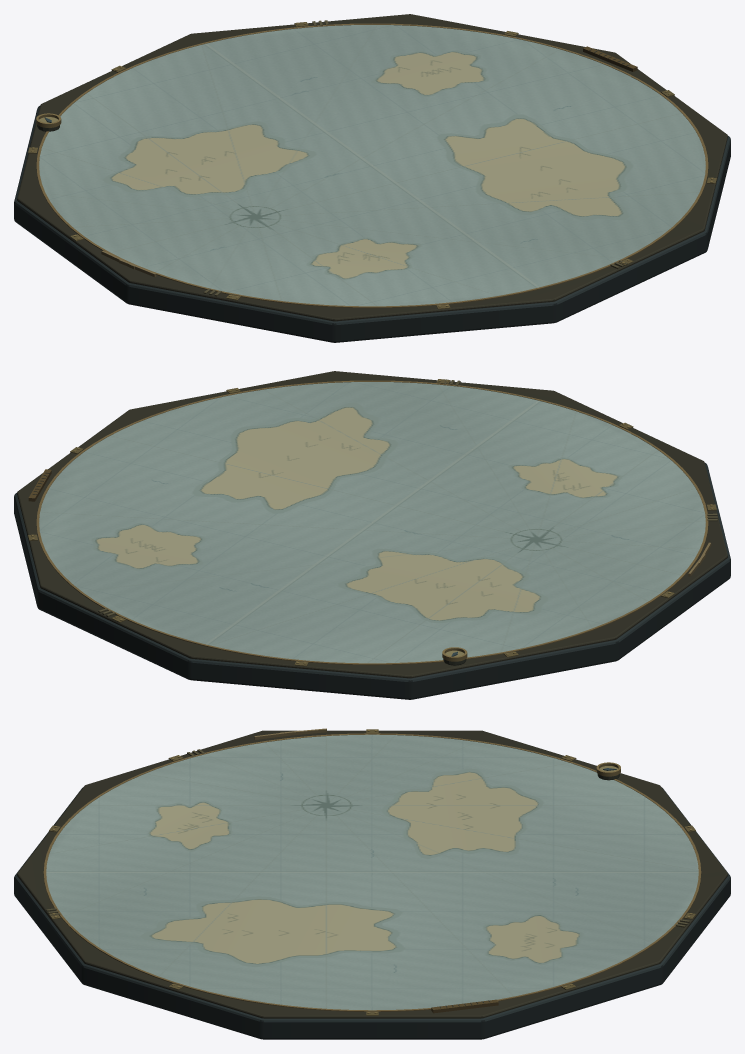
File: navigation-table.glb
3 renders of one model, top to bottom at view 1: azimuth 30°, elevation 25°; view 2: azimuth 150°, elevation 25°; view 3: azimuth 270°, elevation 25°, orthographic. The views are drawn at different scales.
Parts seen in each view (by area): view 1: navigation-table-surface, navigation-table-frame, navigation-table-metal; view 2: navigation-table-surface, navigation-table-frame, navigation-table-metal; view 3: navigation-table-surface, navigation-table-frame, navigation-table-metal.
Part boxes in pixels (<box>): navigation-table-surface: <box>39,25,705,306</box>; navigation-table-frame: <box>14,14,730,342</box>; navigation-table-metal: <box>28,22,716,309</box>; navigation-table-surface: <box>39,382,705,663</box>; navigation-table-frame: <box>14,371,730,699</box>; navigation-table-metal: <box>28,379,716,666</box>; navigation-table-surface: <box>46,734,698,1010</box>; navigation-table-frame: <box>14,730,730,1039</box>; navigation-table-metal: <box>43,728,701,1015</box>.
Size of the model in its own units: 30.05 by 1.54 by 31.56.
Materials: 3 (1 with a texture image).
